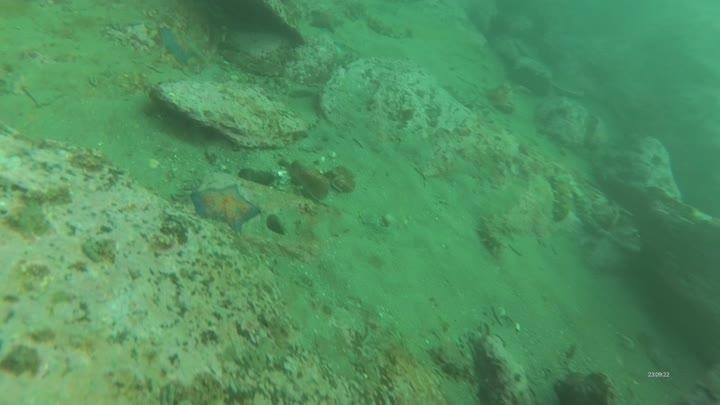holothurian: (543, 165, 578, 226), (362, 8, 419, 44), (473, 209, 507, 261)
starfish: (187, 182, 263, 235), (156, 24, 204, 68), (305, 7, 347, 35)
